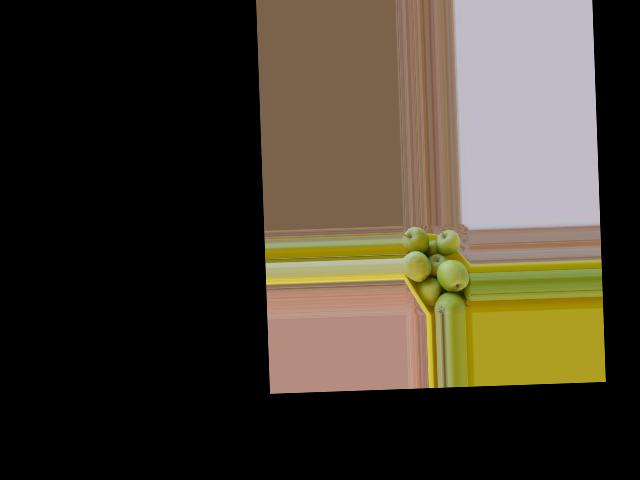apple: (413, 277, 443, 307)
